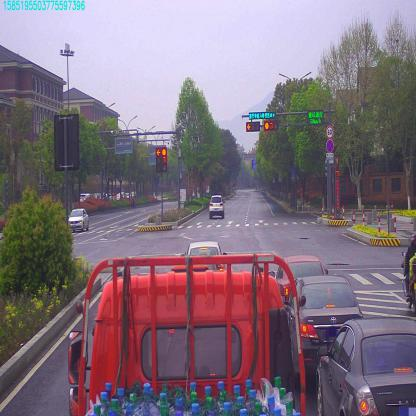traffic-light: (250, 111, 275, 118), (247, 121, 259, 130), (264, 124, 278, 131)
